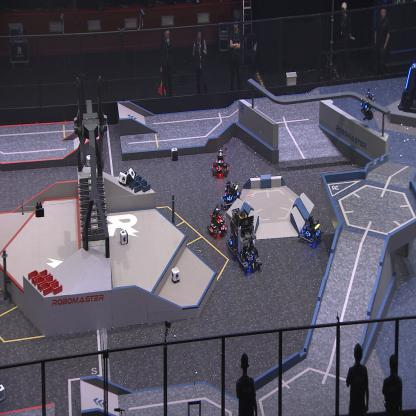car: (236, 215, 262, 272), (226, 205, 246, 256), (298, 215, 324, 247), (207, 205, 228, 237), (221, 180, 241, 209), (211, 150, 230, 176)
